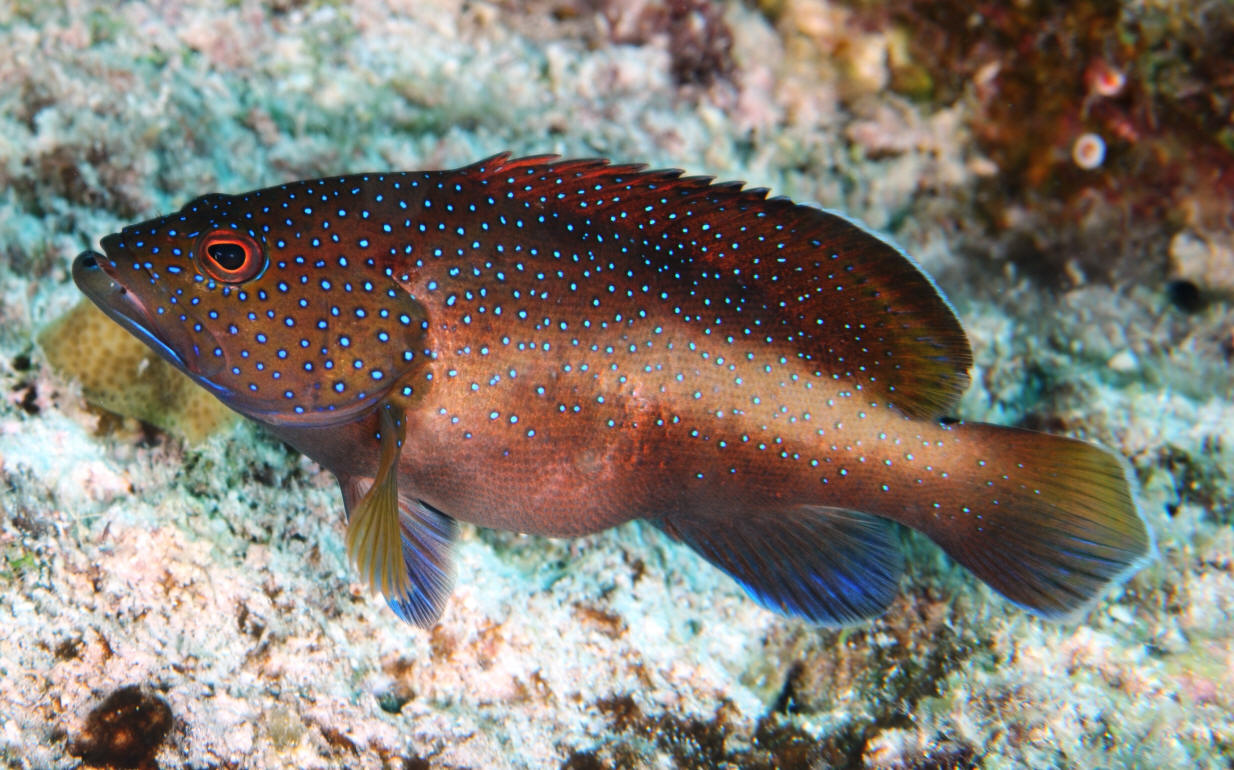Cephalopholis_fulvaw: (63, 150, 1142, 646)
